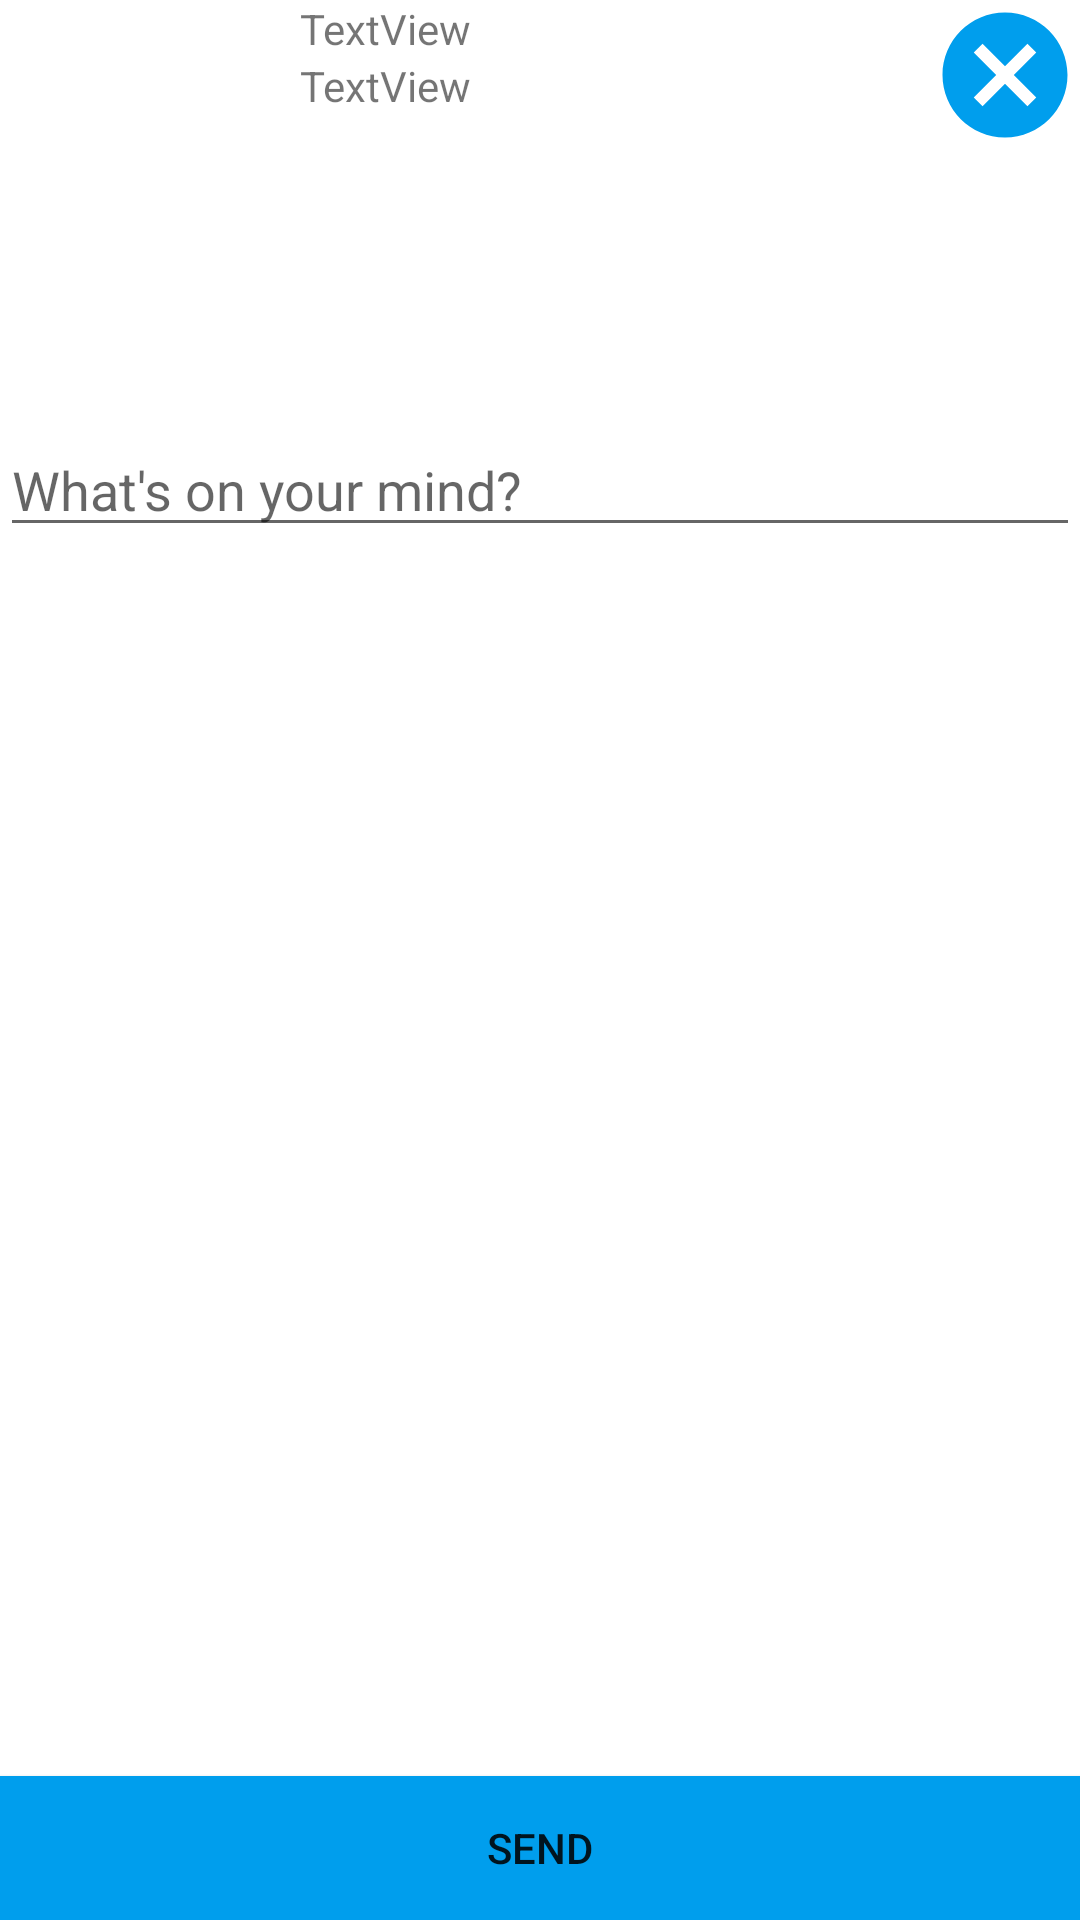

Screen size 1080px x 1920px. Icon name, then its box in pixels as (x1, y1, x2, y2):
cancel: (942, 12, 1068, 138)
